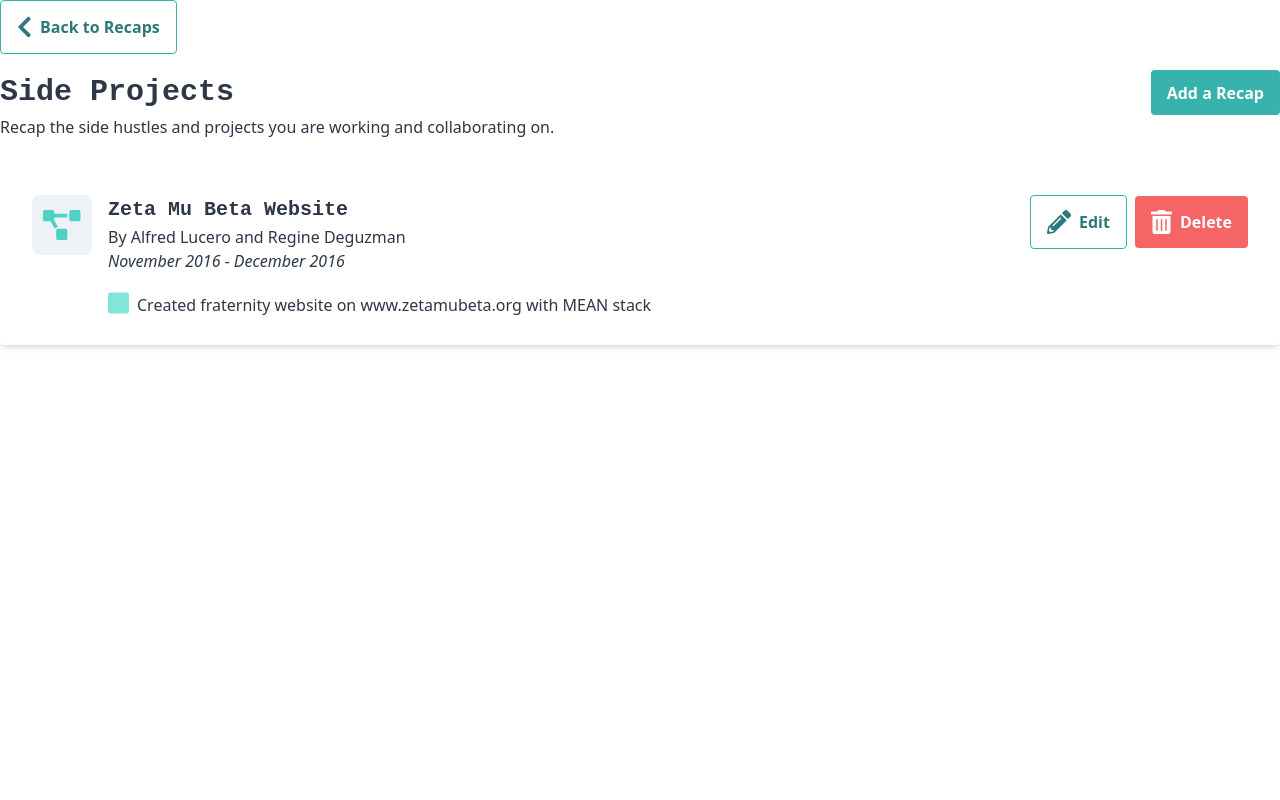
it: <SideProjectsLayout /> › should show the success alert after deleting a recap successfully
Click the button "Delete" at (1192, 222), box x1=1135 y1=196 x2=1248 y2=248
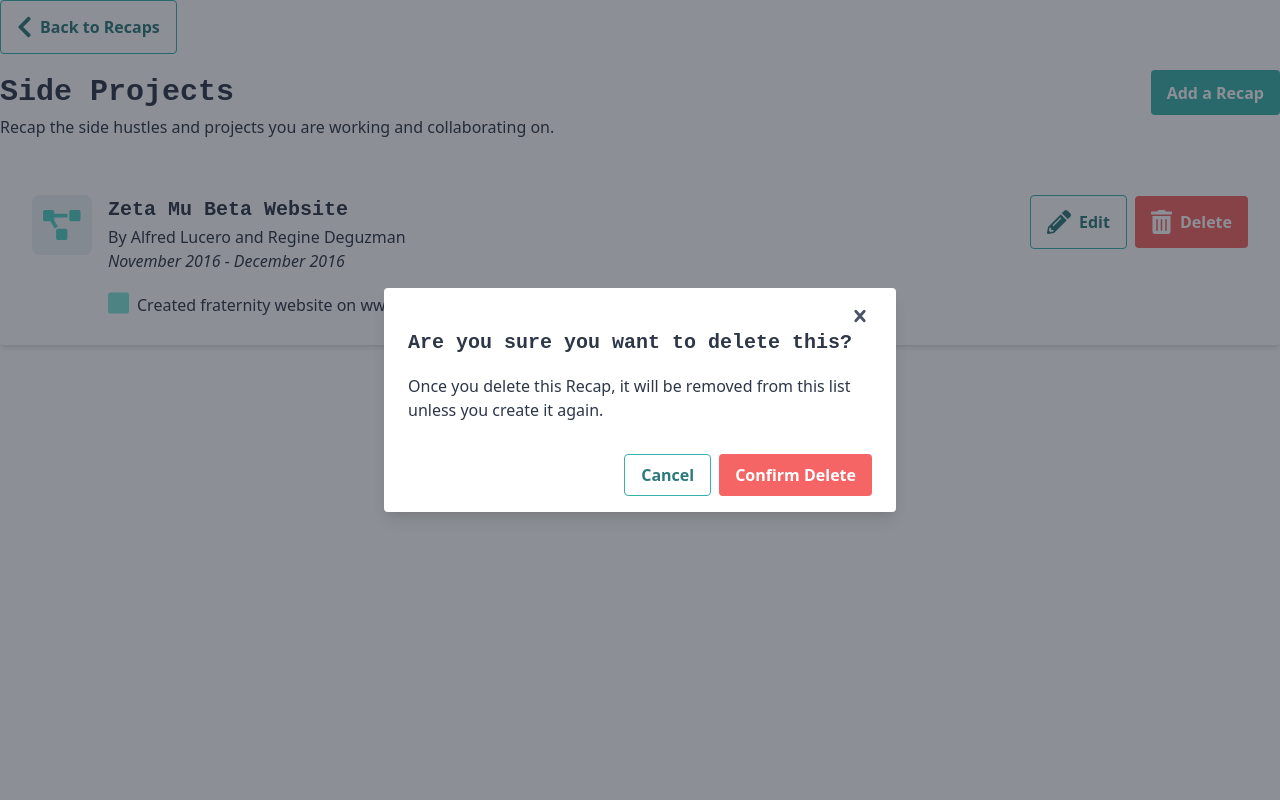
Expected: the heading "Are you sure you want to delete this?" is shown, x1=408 y1=328 x2=872 y2=358
Click the button "Confirm Delete" at (796, 475), box x1=719 y1=454 x2=872 y2=496
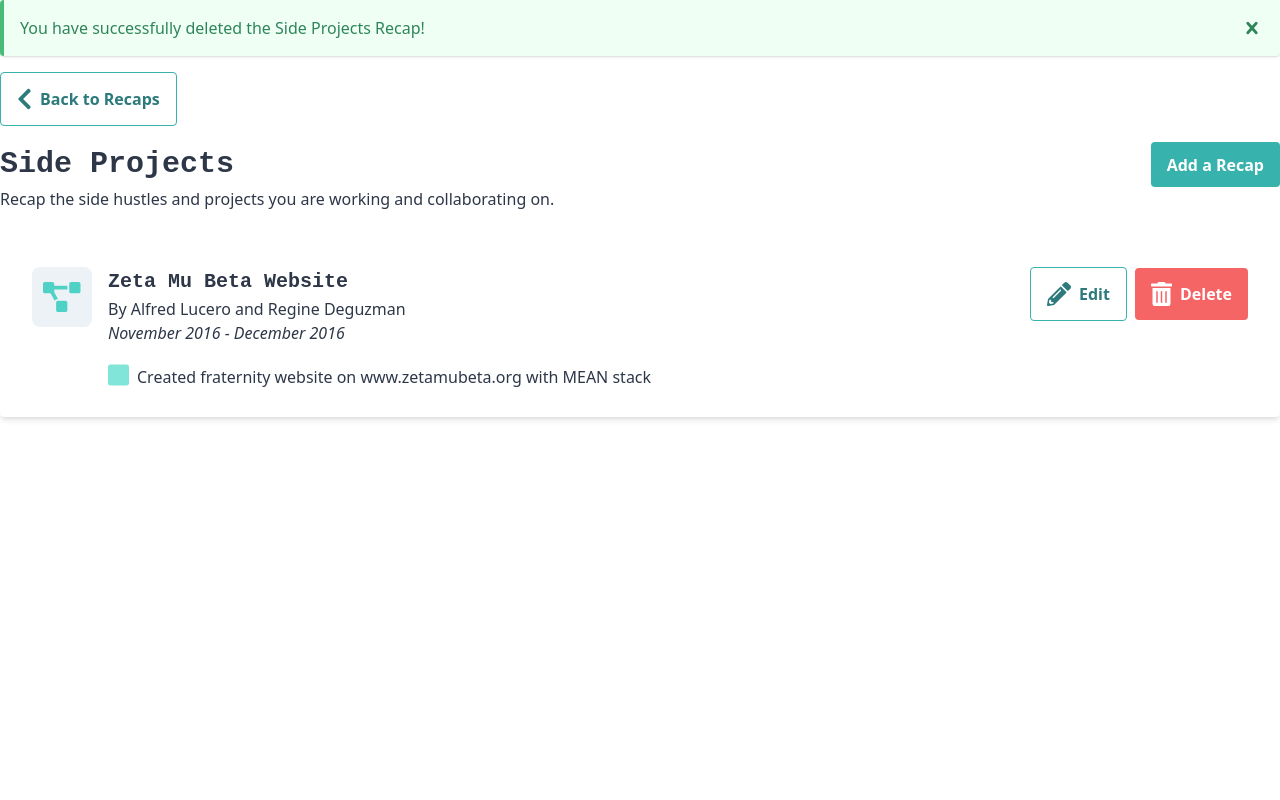
Expected: the heading "Are you sure you want to delete this?" is gone
Expected: the text "You have successfully deleted the Side Projects Recap!" is shown, x1=20 y1=17 x2=425 y2=39
